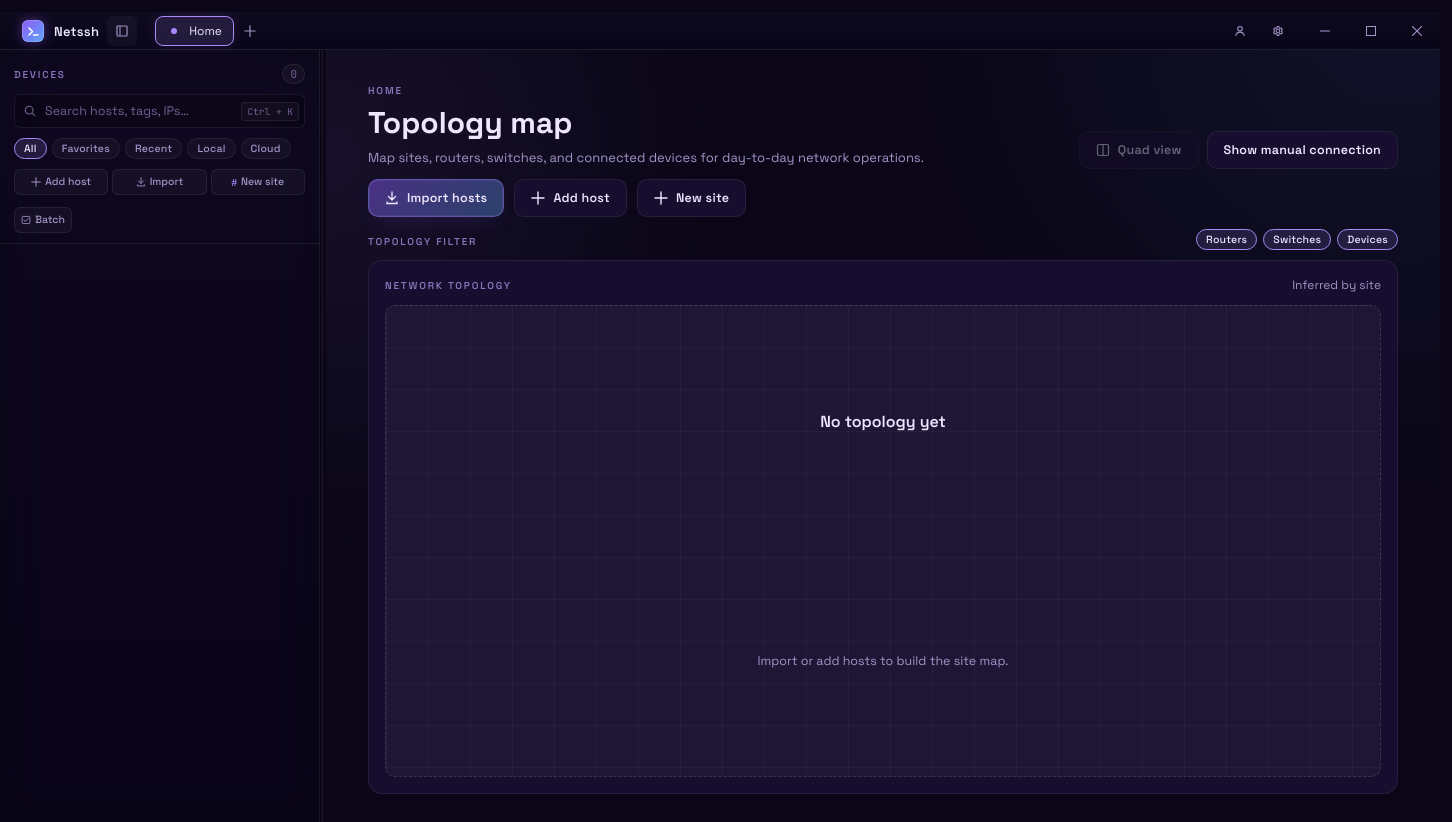
Test: 2. TitleBar › credentials icon opens the credentials settings section without replacing settings
Click the button titled "Credentials" at x=1240, y=31, box [1224, 16, 1256, 46]
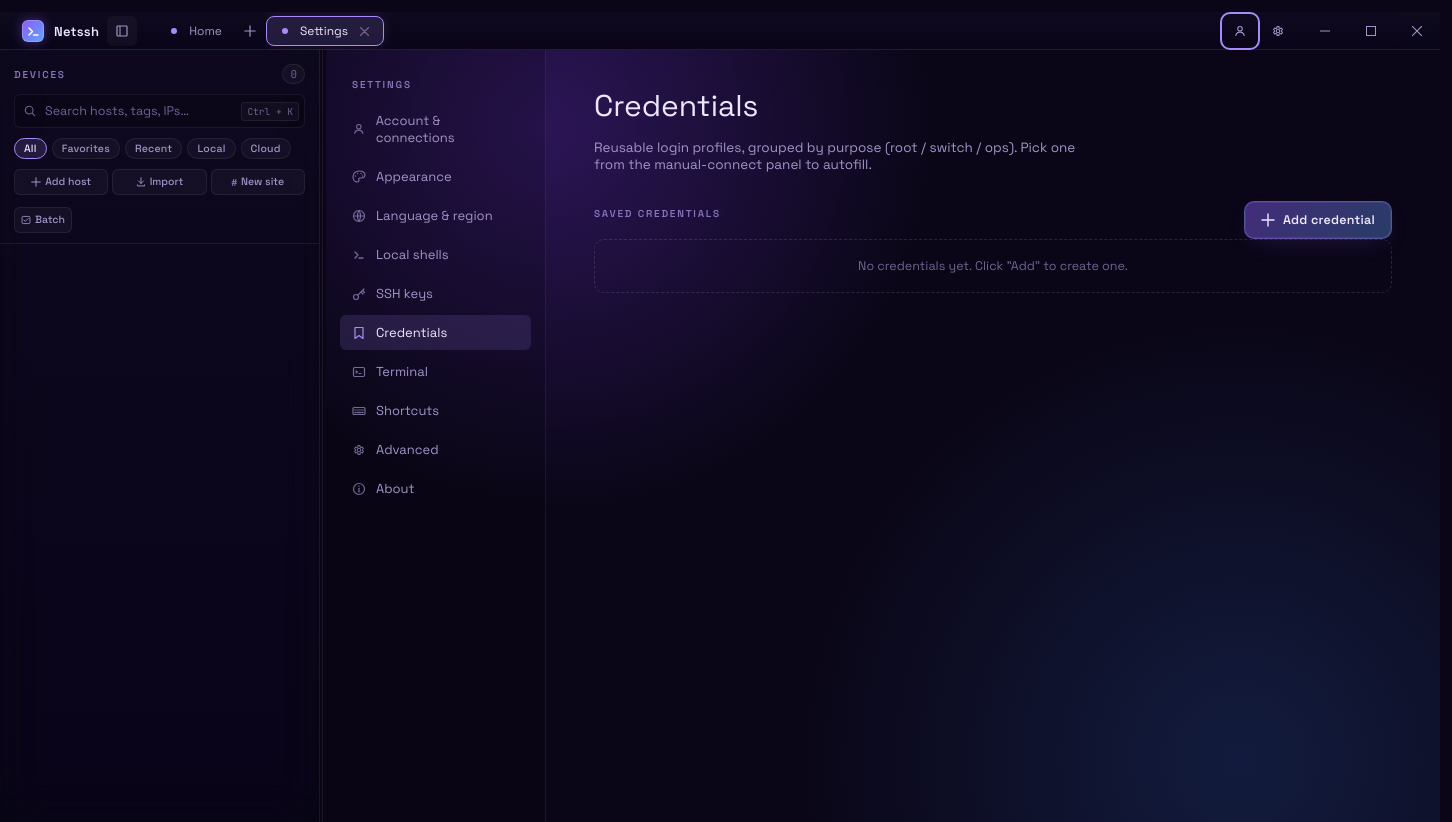
Expected: the button with class "titlebar-settings-btn" is shown, [1262, 16, 1294, 46]
Expected: the navigation bar with class "settings-nav" is shown, [326, 50, 546, 821]
Expected: the heading "Credentials" is shown, [594, 86, 758, 125]
